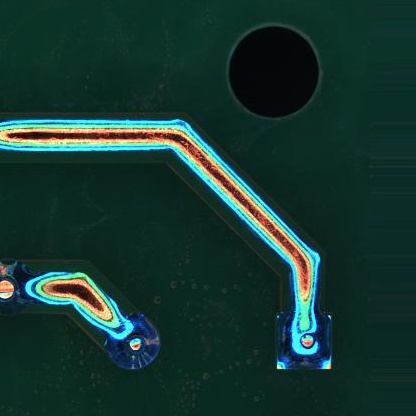spot: (274, 310, 333, 374), (106, 314, 161, 370)
